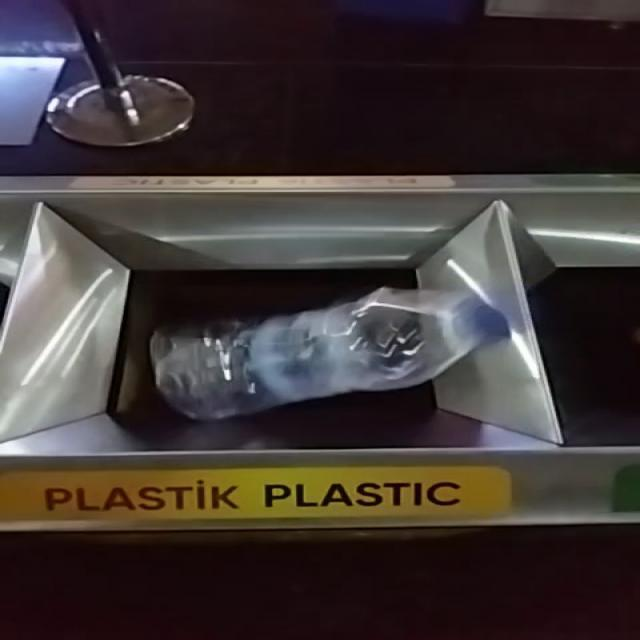Plastic: (149, 287, 509, 421)
